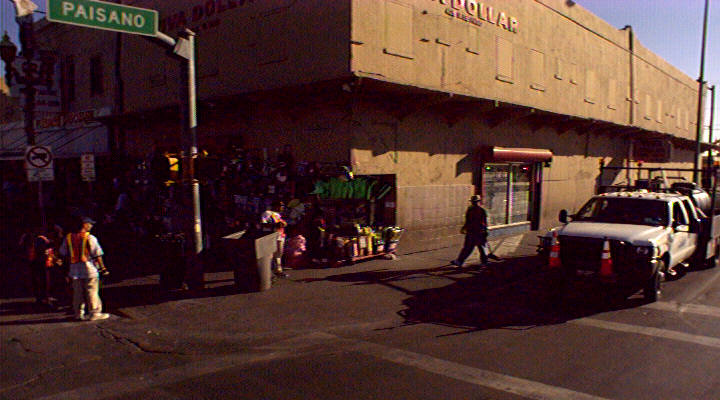Ramp: (112, 254, 517, 355)
